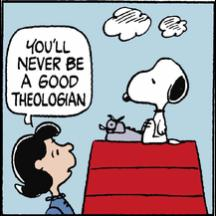snoopy: (122, 56, 190, 146)
